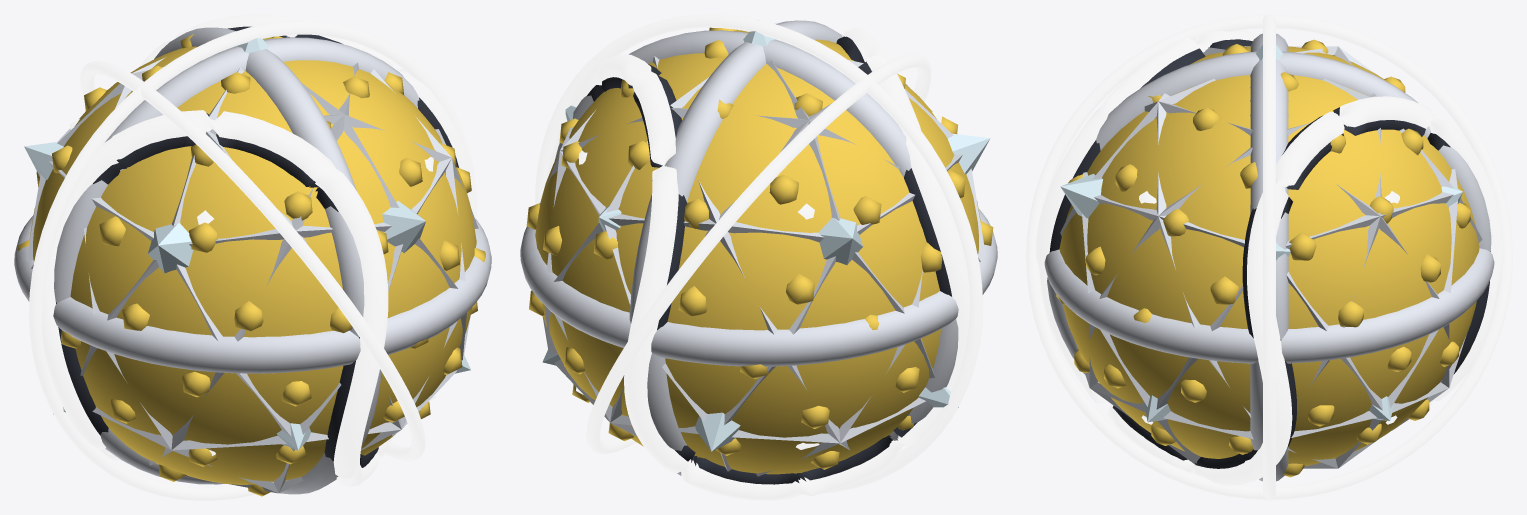
The model's file is pong-balls.glb.
3 renders of one model, left to right at view 1: azimuth 30°, elevation 25°; view 2: azimuth 150°, elevation 25°; view 3: azimuth 270°, elevation 25°, orthographic. The views are drawn at different scales.
Parts seen in each view (by area): view 1: ball_bouncy, ball_energy, ball_damper, ball_ice; view 2: ball_bouncy, ball_damper, ball_energy, ball_ice; view 3: ball_bouncy, ball_energy, ball_damper, ball_ice.
Part boxes in pixels (<box>): ball_bouncy: <box>17,14,485,496</box>; ball_energy: <box>26,21,478,500</box>; ball_damper: <box>14,27,491,494</box>; ball_ice: <box>24,27,470,450</box>; ball_bouncy: <box>526,27,993,500</box>; ball_damper: <box>520,20,997,475</box>; ball_energy: <box>535,14,985,493</box>; ball_ice: <box>542,31,990,451</box>; ball_bouncy: <box>1035,30,1503,485</box>; ball_energy: <box>1026,14,1512,500</box>; ball_damper: <box>1044,33,1494,481</box>; ball_ice: <box>1060,36,1462,422</box>.
Bounding box in the file's own units: 2.18 × 2.18 × 2.18.
